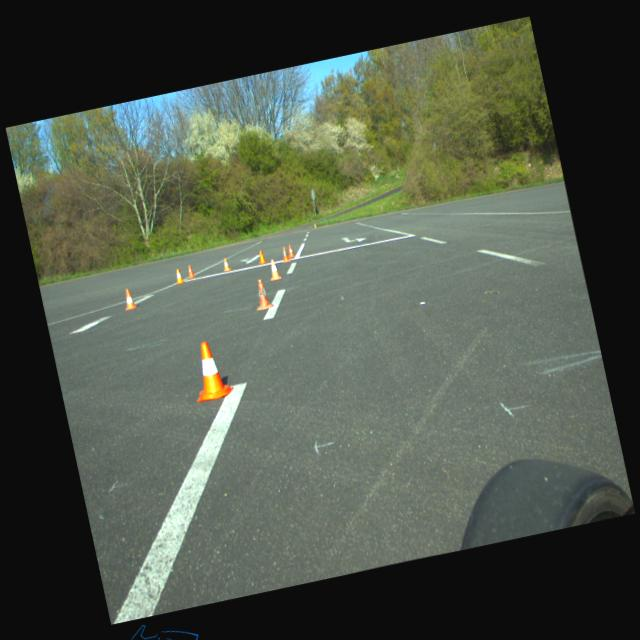orange_cone: (185, 338, 235, 402), (250, 278, 274, 310), (266, 258, 282, 281), (122, 288, 136, 310), (174, 268, 184, 284), (280, 246, 290, 262), (221, 257, 231, 271), (256, 250, 266, 264), (186, 264, 195, 278), (286, 244, 295, 258)
